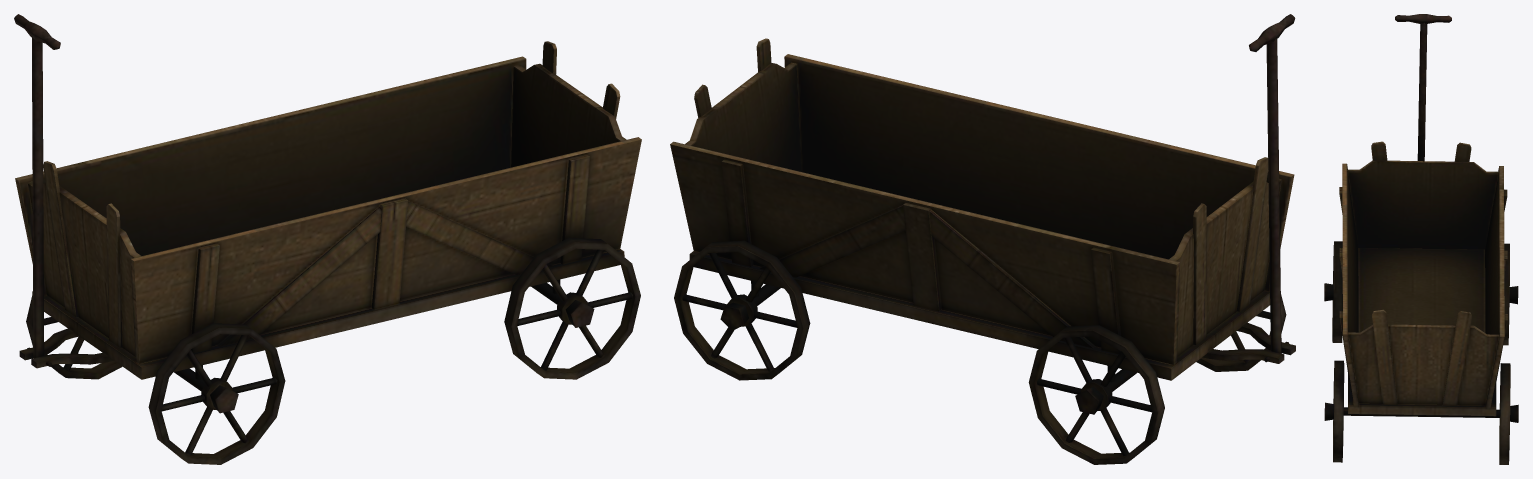
The model's file is WoodenCart.FBX.
3 views of the same model, side by side, from view 1: azimuth 30°, elevation 25°; view 2: azimuth 150°, elevation 25°; view 3: azimuth 270°, elevation 25° (orthographic). The views are drawn at different scales.
Parts seen in each view (by area): view 1: WoodenCart; view 2: WoodenCart; view 3: WoodenCart.
Boxes of the visible parts, left/top/right/bottom form: WoodenCart: left=14, top=14, right=641, bottom=464; WoodenCart: left=670, top=14, right=1295, bottom=464; WoodenCart: left=1324, top=14, right=1518, bottom=464.
Bounding box in the file's own units: 140 × 102 × 62.14.
Materials: 1 (1 with a texture image).
